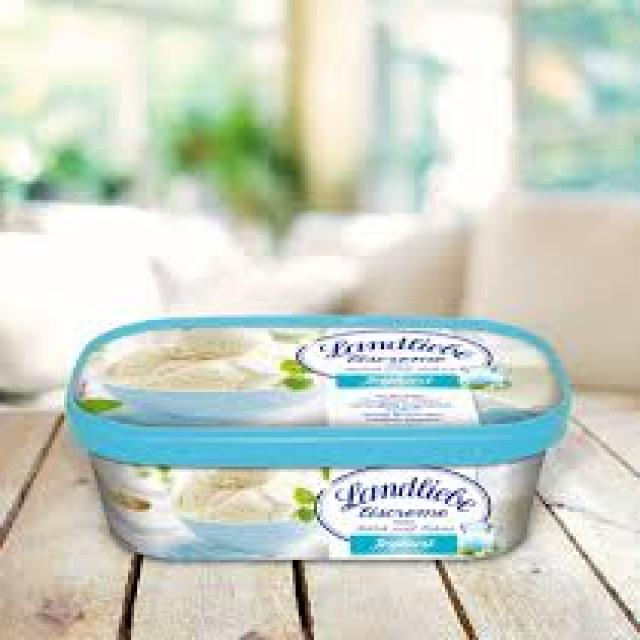plastic: (64, 312, 564, 560), (64, 315, 567, 461)
